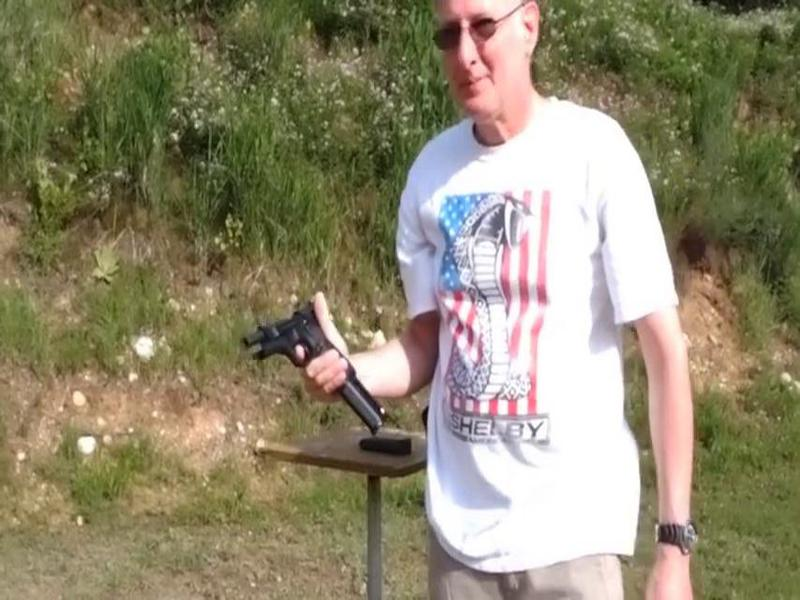Pistola: (224, 298, 358, 395)
